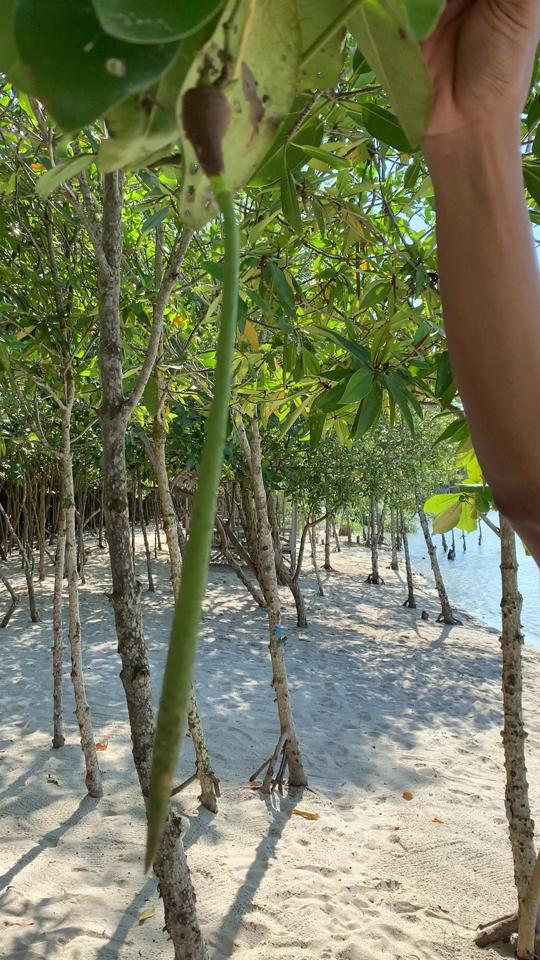setengah matang: (134, 43, 263, 882)
